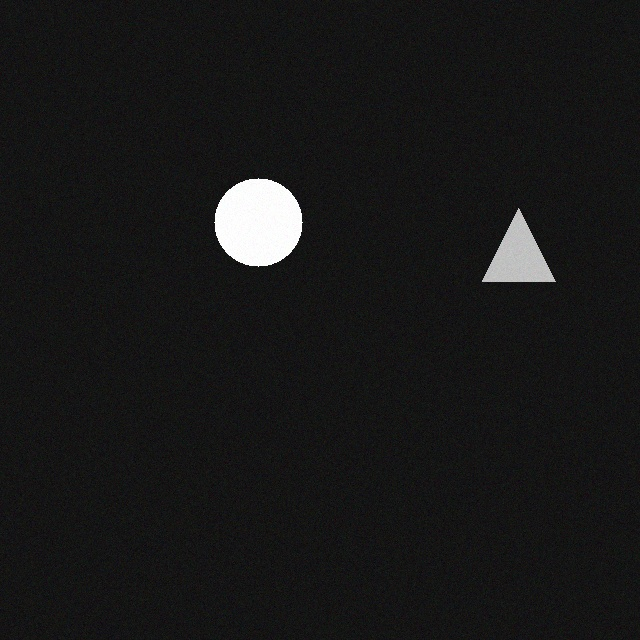circle: (204, 184, 292, 272)
triangle: (472, 214, 545, 287)
